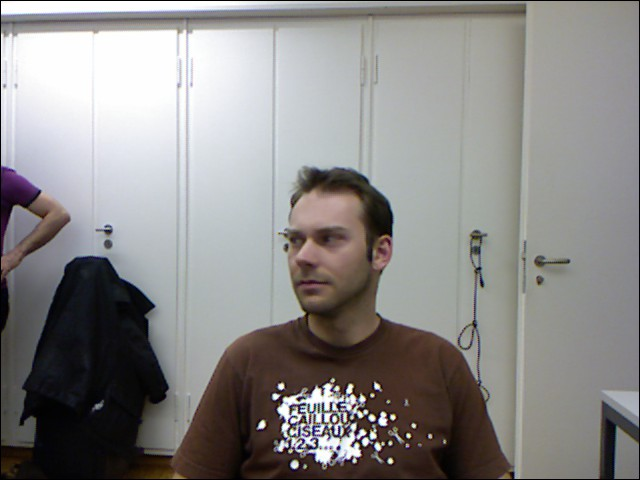deflection: (207, 169, 486, 454)
